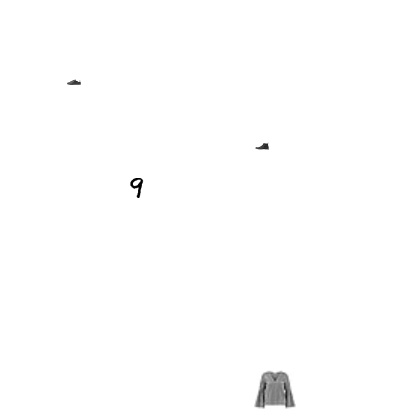9: (123, 171, 151, 199)
Ankle_boot: (255, 139, 269, 153)
Shirt: (254, 368, 296, 410)
Sneaker: (67, 75, 81, 89)
